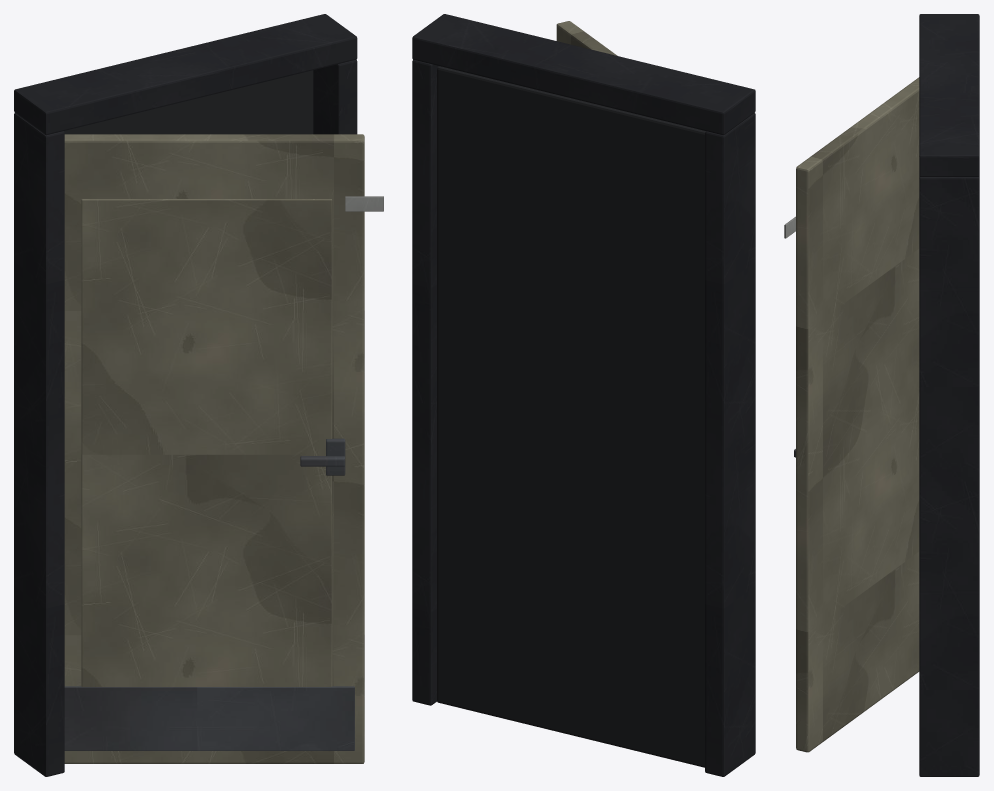
File: door_plain.glb
The picture shows the model from 3 angles, left to right: view 1: azimuth 30°, elevation 25°; view 2: azimuth 150°, elevation 25°; view 3: azimuth 270°, elevation 25°; orthographic projection. The views are drawn at different scales.
Visible parts, largest first — view 1: door, frame; view 2: frame, door; view 3: door, frame.
Boxes of the visible parts, x1,y1,x2,y2 form: door: [64, 134, 383, 763]; frame: [14, 14, 357, 776]; frame: [412, 14, 755, 776]; door: [556, 21, 617, 55]; door: [784, 77, 919, 752]; frame: [919, 14, 979, 776].
Bounding box in the file's own units: 1.12 × 2.28 × 0.6483.
5 materials, 4 textured.
